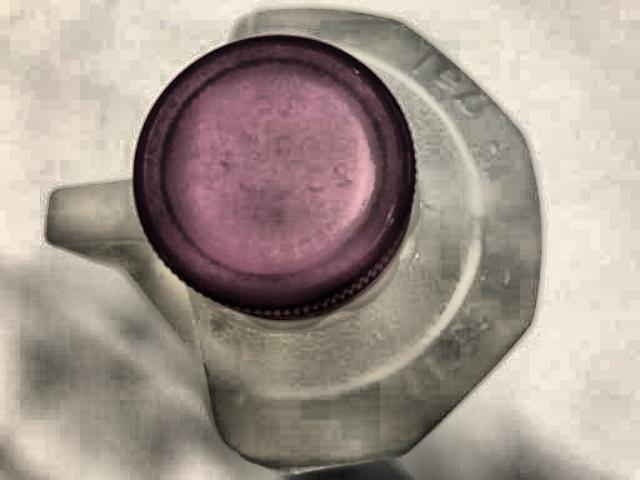Plastic: (20, 6, 557, 463)
